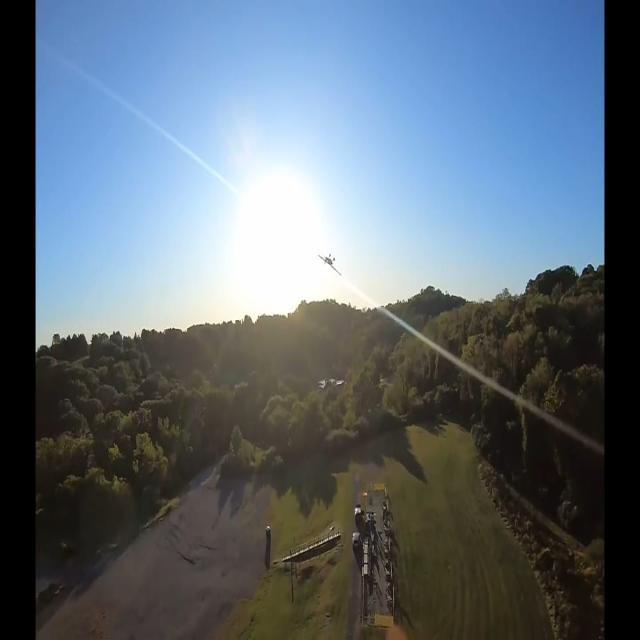iha: (311, 244, 335, 269)
